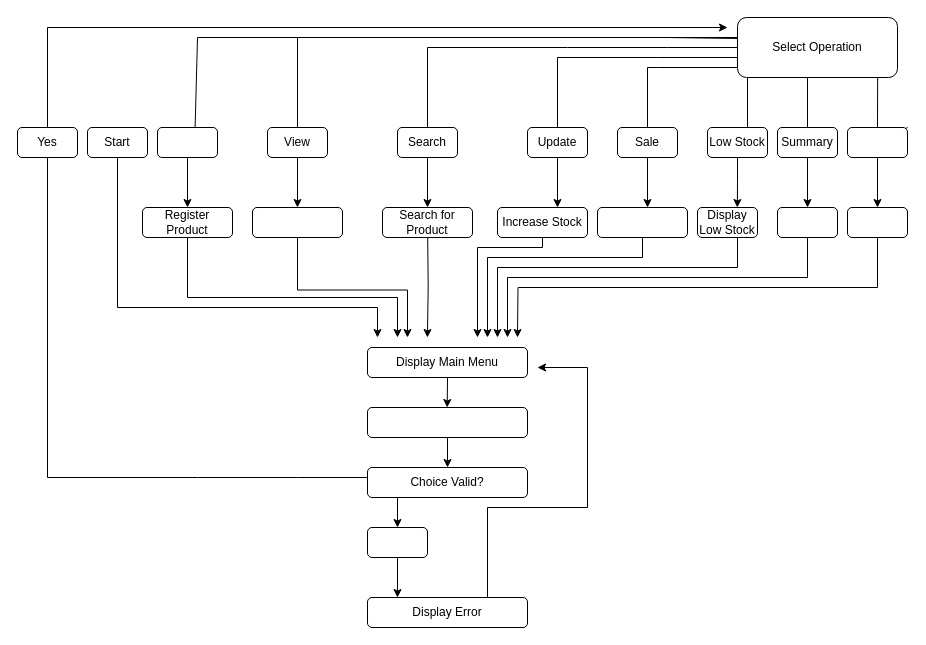
Some shapes in this 926 by 645 pixel diagram are drawn without their labels. The shapes that lost their labels are listed below. From the top down, each one's centre as x and y in pixels, then its label:
At point 187,142: "Add".
At point 877,142: "Exit".
At point 297,222: "Display the Inventory".
At point 642,222: "Validate and Process Sales".
At point 807,222: "Calculate Summary".
At point 877,222: "End".
At point 447,422: "Get User Choise".
At point 397,542: "No".
